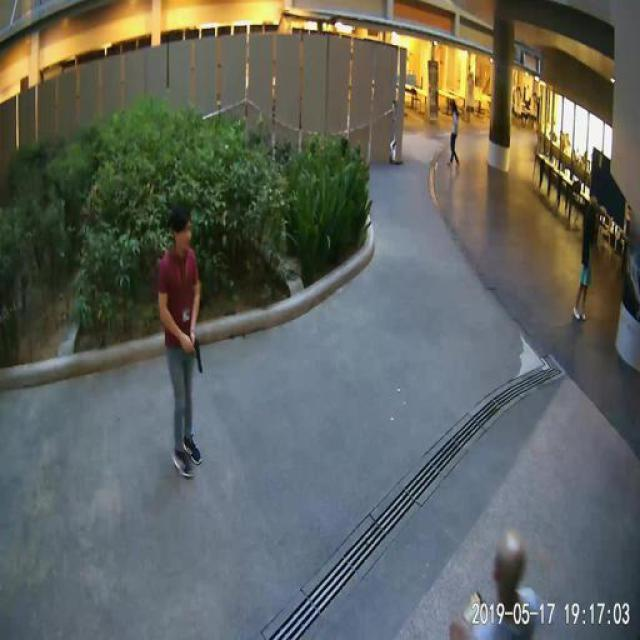weapon: (190, 338, 203, 374)
